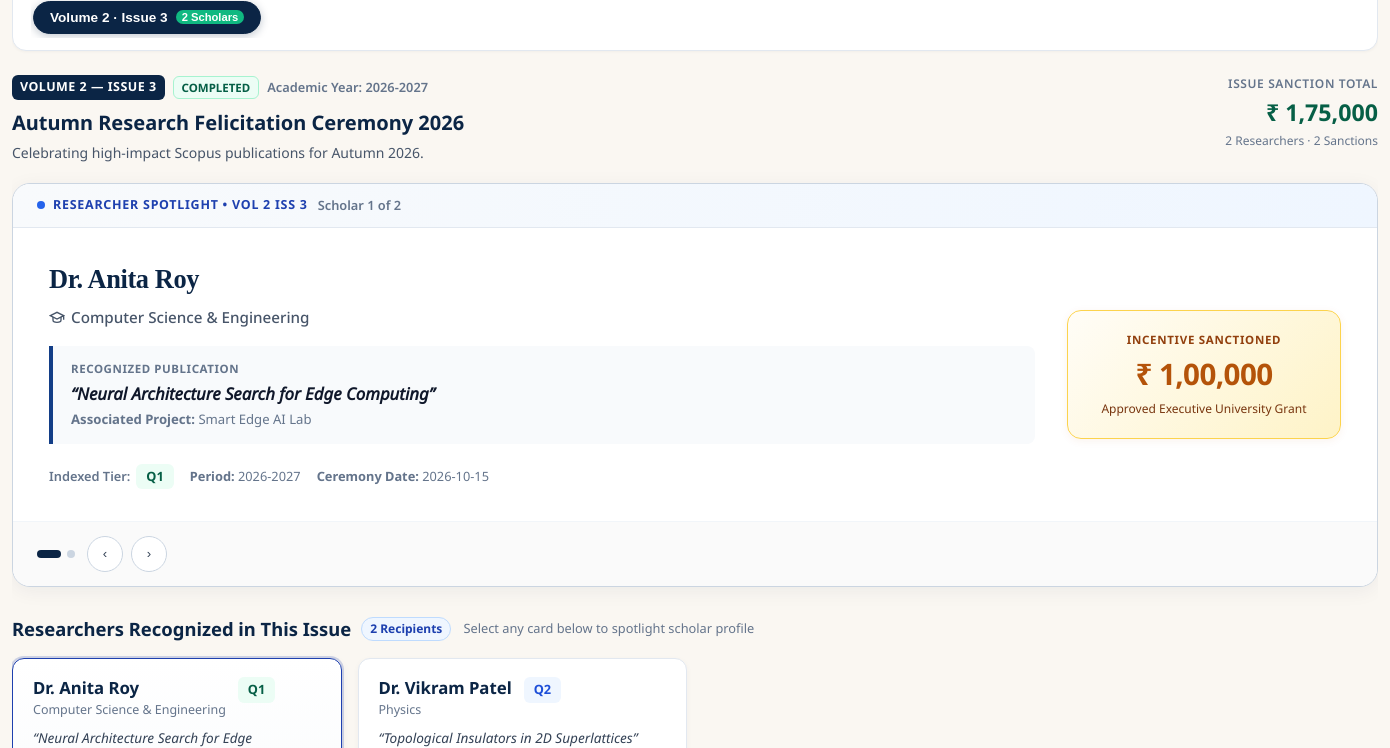
Test: FelicitationShowcase Component Tests › 6. Pauses spotlight auto-rotation on mouse hover and resumes on mouse leave
(page scrolled)
// Hover over carousel
Hover over the element "Researcher Spotlight" at x=695, y=385, box [12,183,1378,587]
Expected: the heading "Dr. Anita Roy" below "Researcher Spotlight • Vol" is shown, [49,264,199,294]
// Leave hover
Move the pointer off the element "Researcher Spotlight", box [12,183,1378,587]
Wait 7500 ms
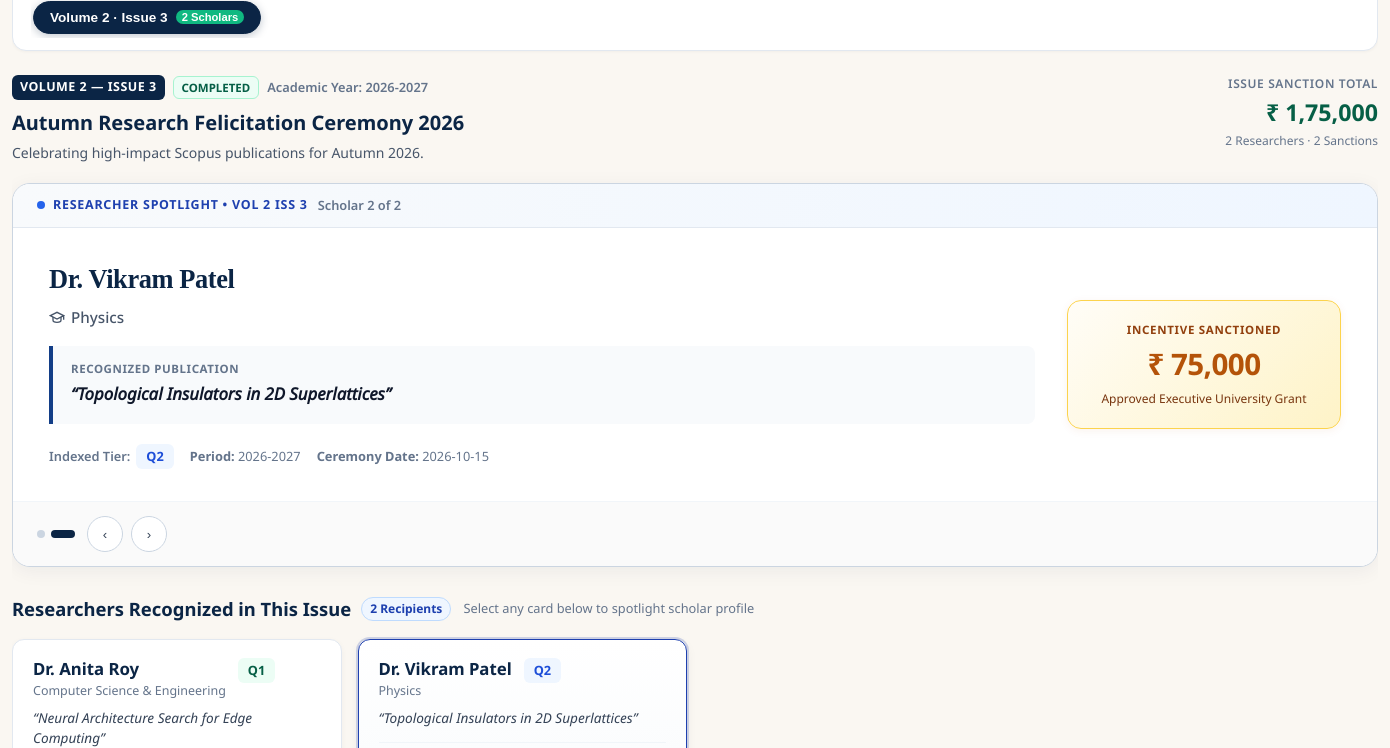
Now the heading "Dr. Vikram Patel" below "Researcher Spotlight • Vol" is shown, box [49,264,234,294]
